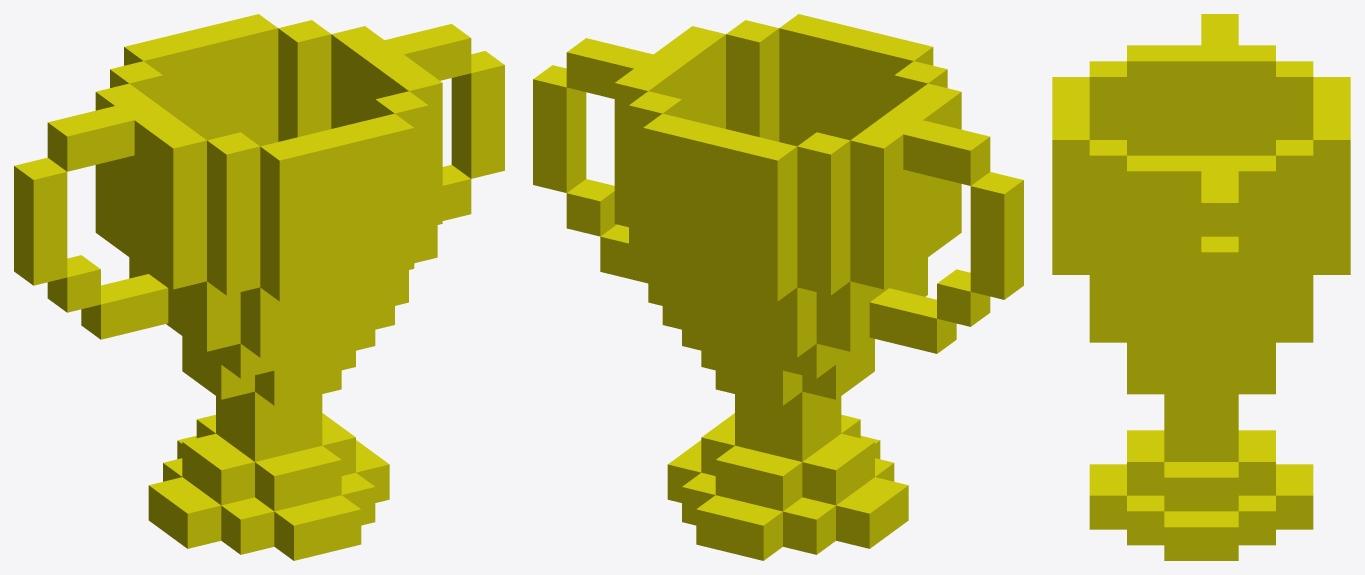
Rendered from trophy.glb.
3 renders of one model, left to right at view 1: azimuth 30°, elevation 25°; view 2: azimuth 150°, elevation 25°; view 3: azimuth 270°, elevation 25°, orthographic. The views are drawn at different scales.
Visible parts, largest first — view 1: cube (×97); view 2: cube (×95); view 3: cube (×95).
Boxes of the visible parts, x1,y1,x2,y2 form: cube (×97): (14,14,504,560); cube (×95): (533,14,1023,560); cube (×95): (1052,14,1350,560).
Bounding box in the file's own units: 1.75 × 1.5 × 1.
1 material, 1 textured.
